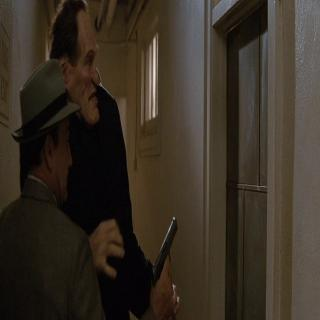gun: (144, 208, 192, 320)
